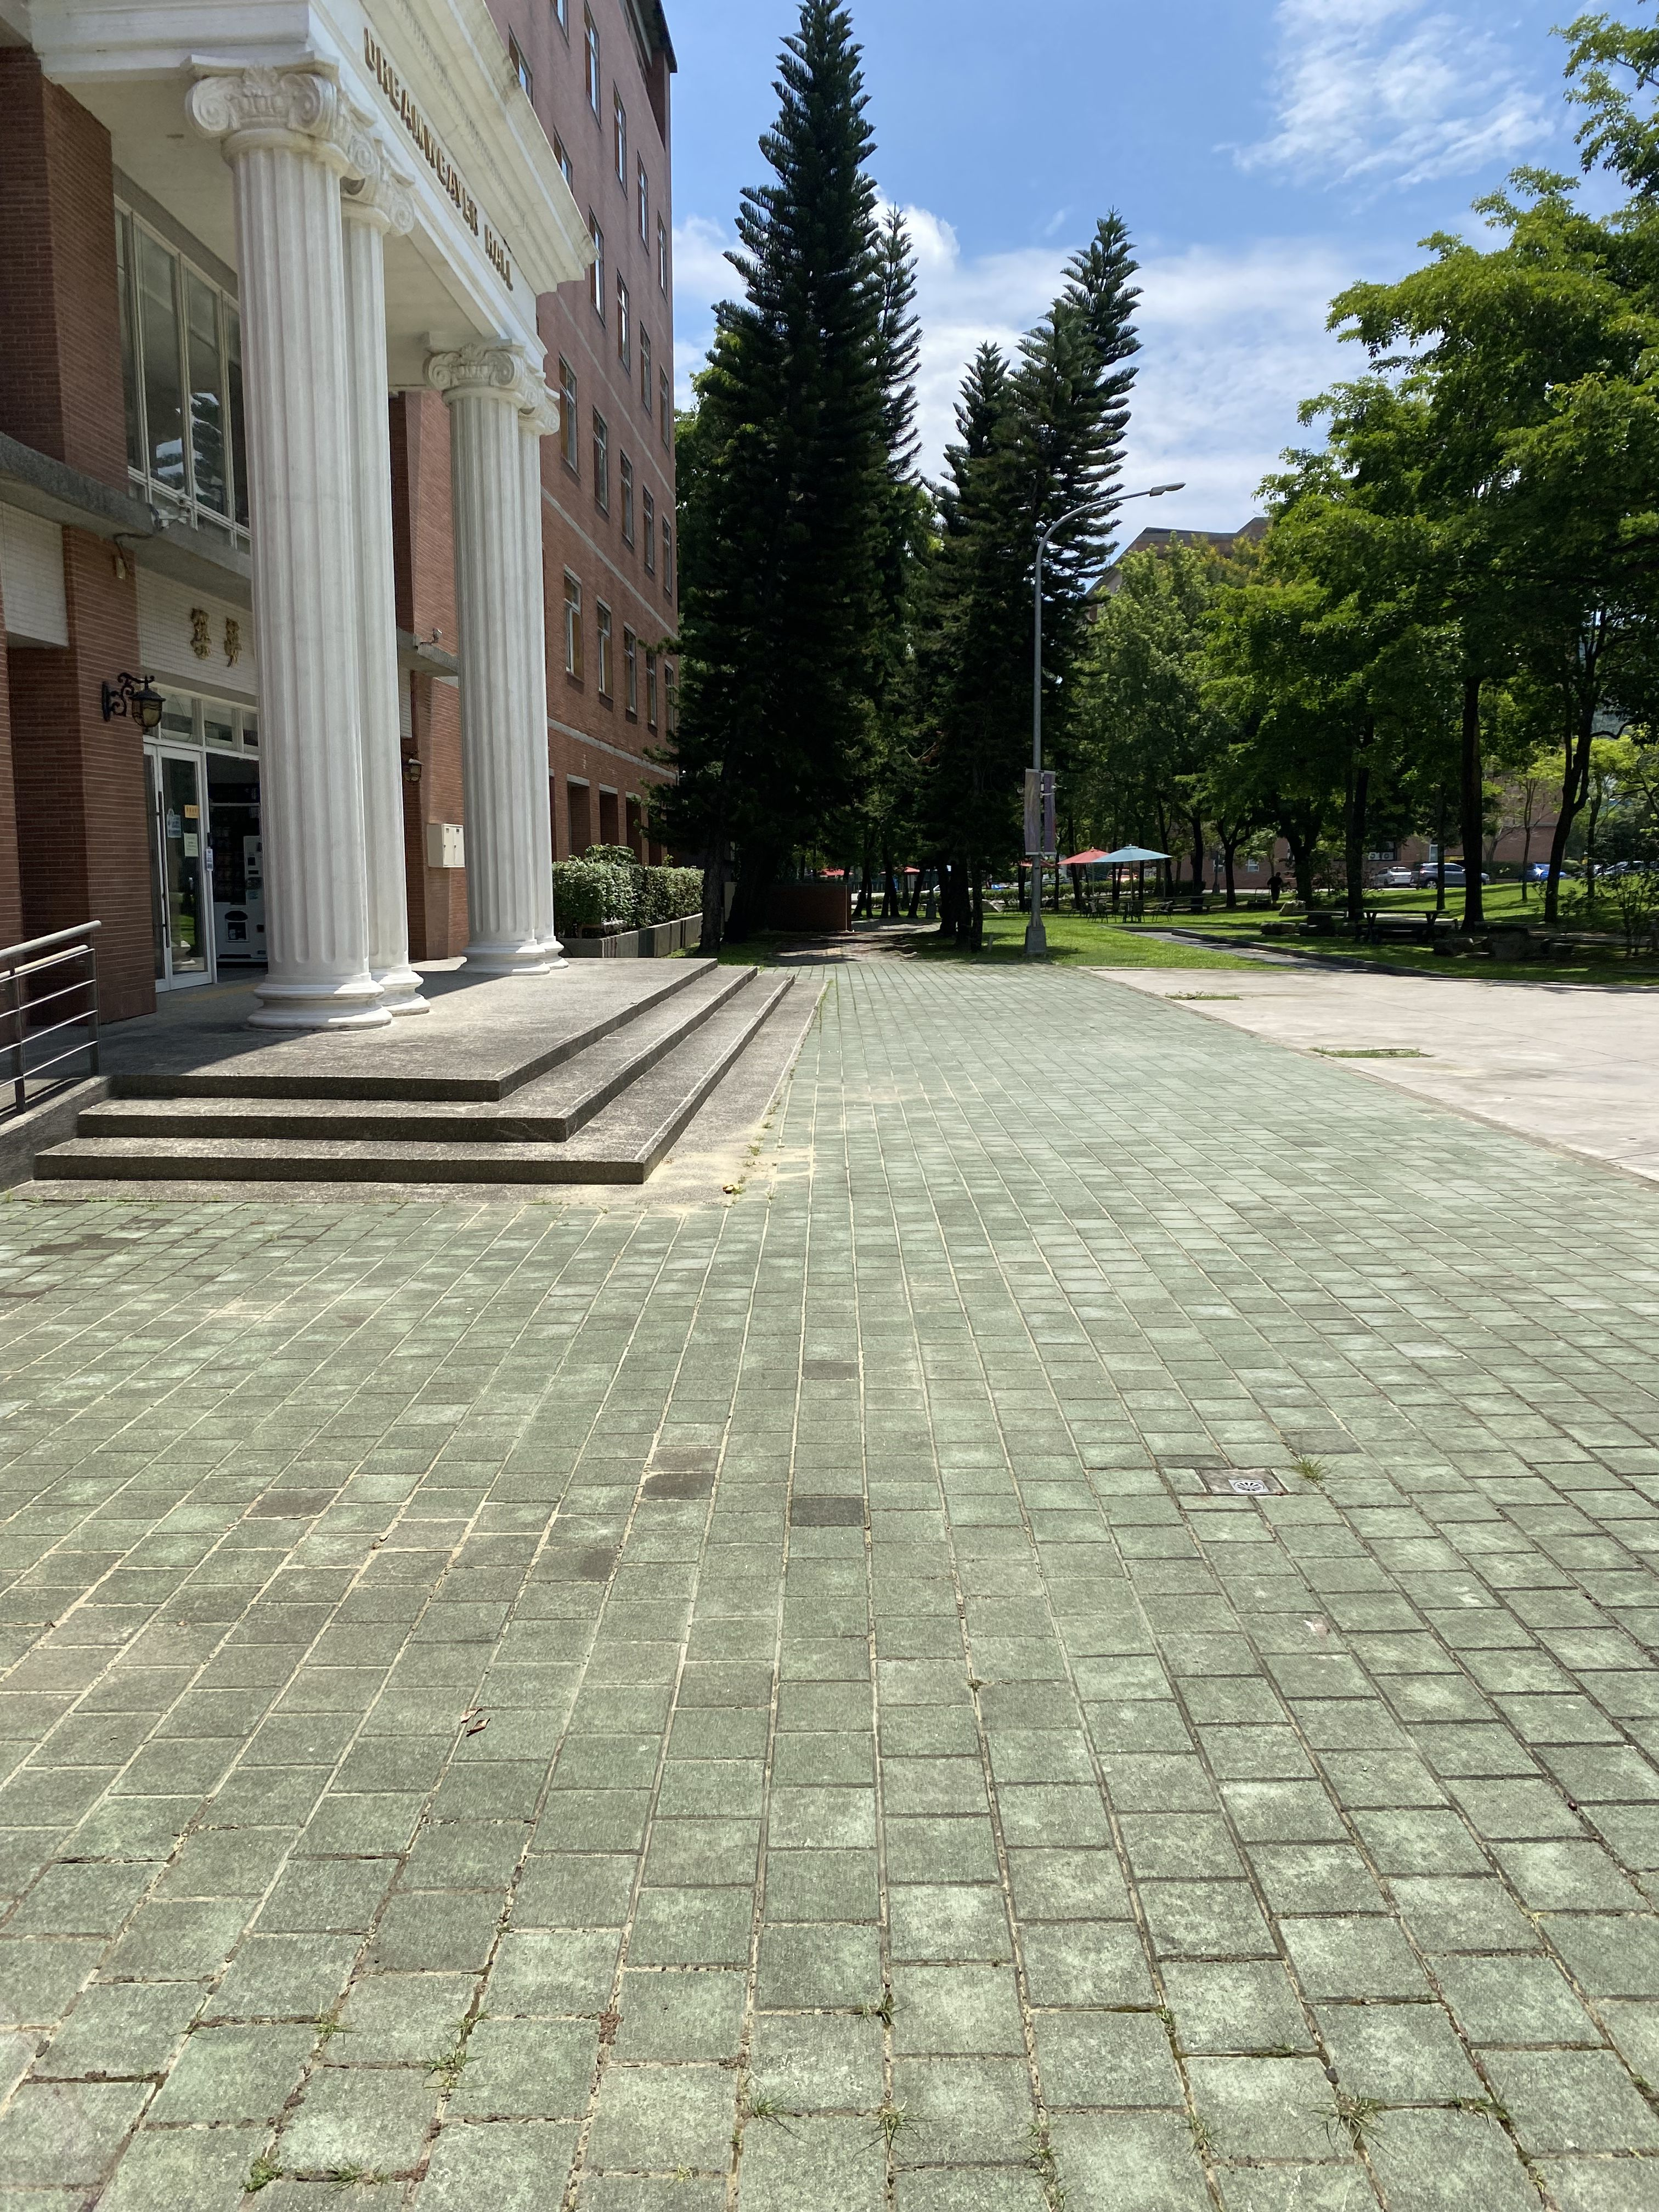0: (3, 1073, 676, 2200)
sidewalk: (619, 873, 1659, 2205)
